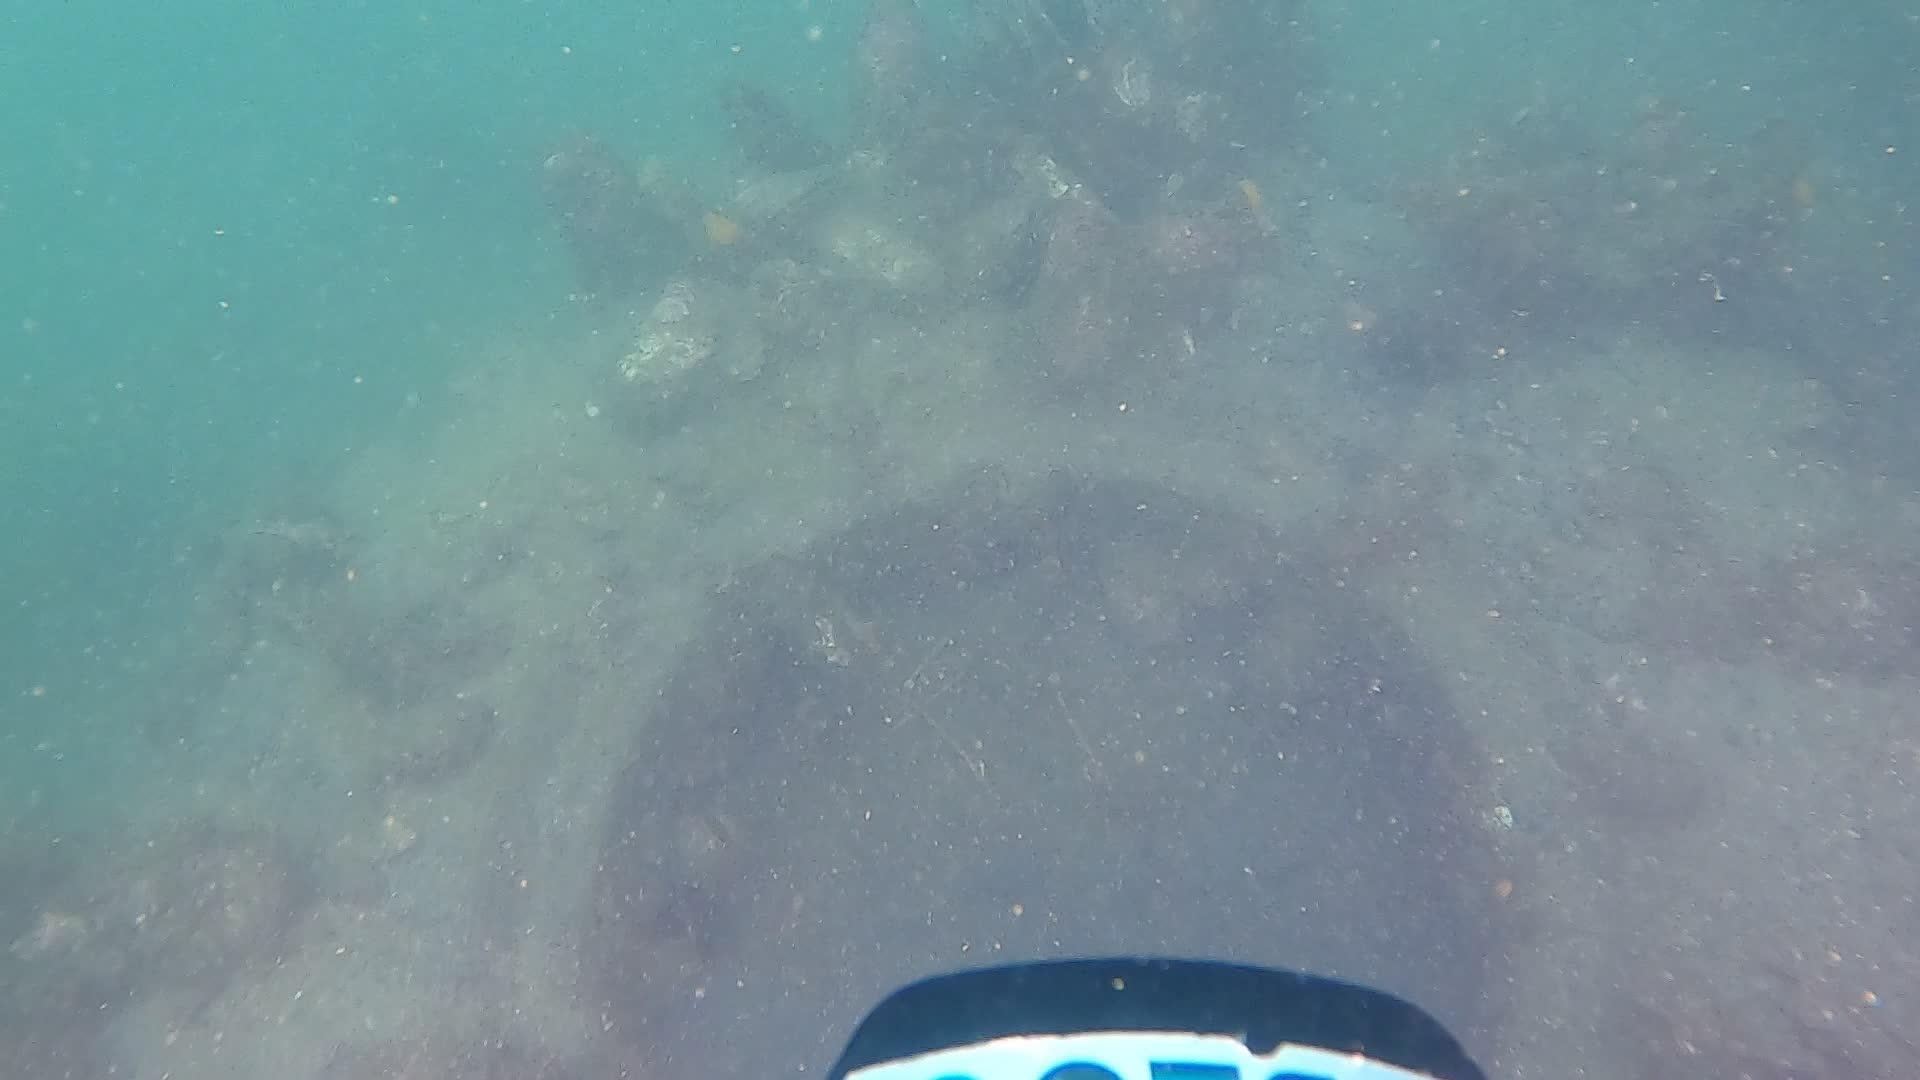tire: (69, 131, 1920, 1080)
